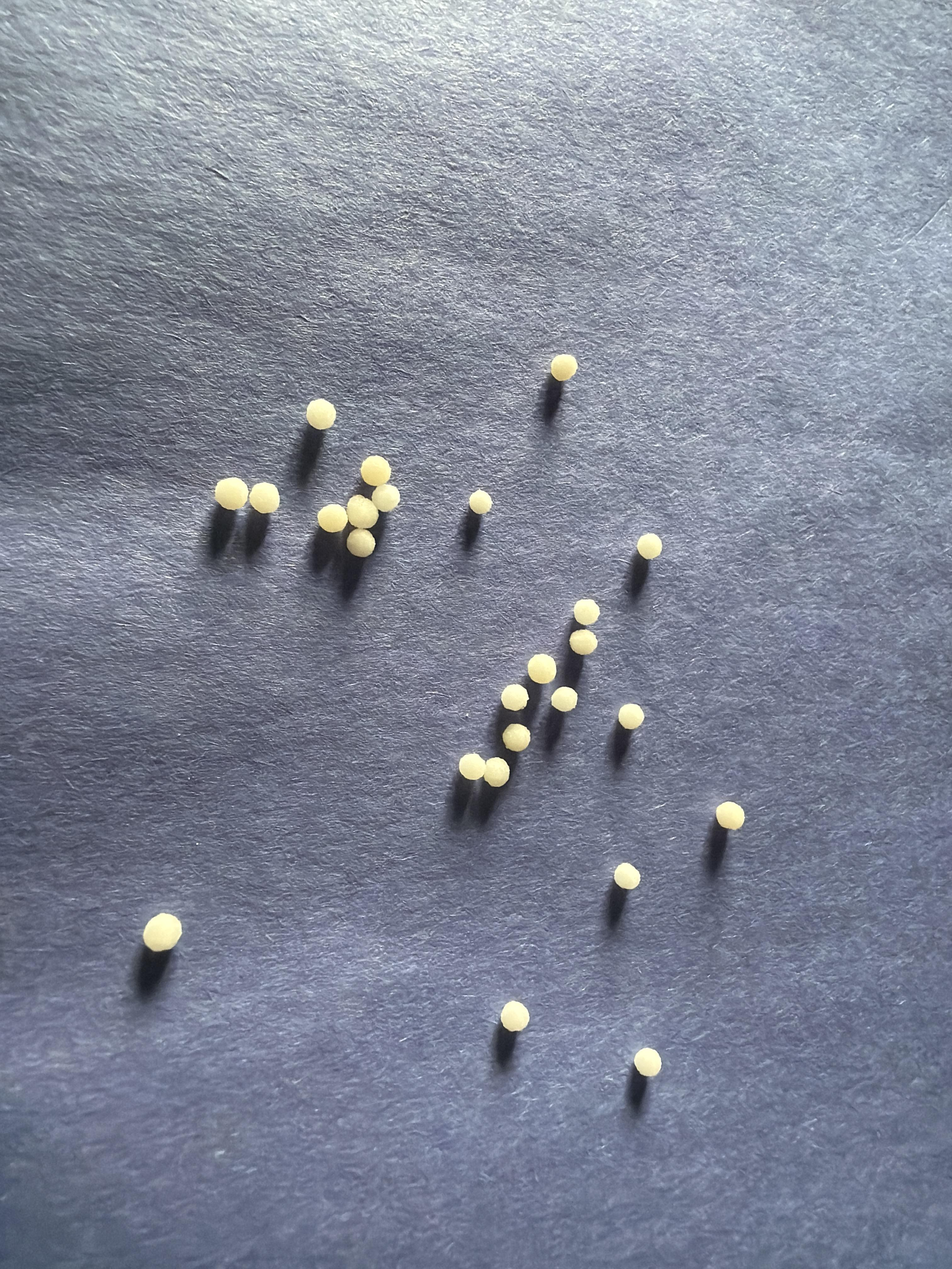pill: (143, 912, 182, 952), (214, 477, 248, 510), (347, 495, 379, 529), (248, 483, 280, 514), (306, 398, 336, 430), (360, 456, 391, 486), (346, 528, 376, 558), (317, 504, 348, 533), (500, 1001, 529, 1032), (527, 653, 556, 684), (633, 1047, 662, 1078), (371, 483, 400, 512), (502, 723, 530, 752), (716, 801, 744, 830), (483, 757, 510, 787), (569, 628, 597, 656), (550, 354, 578, 382), (458, 753, 486, 781), (500, 684, 528, 711), (551, 685, 578, 712), (618, 703, 644, 730), (614, 863, 640, 890), (573, 599, 600, 625), (636, 533, 662, 560), (470, 489, 492, 515)
